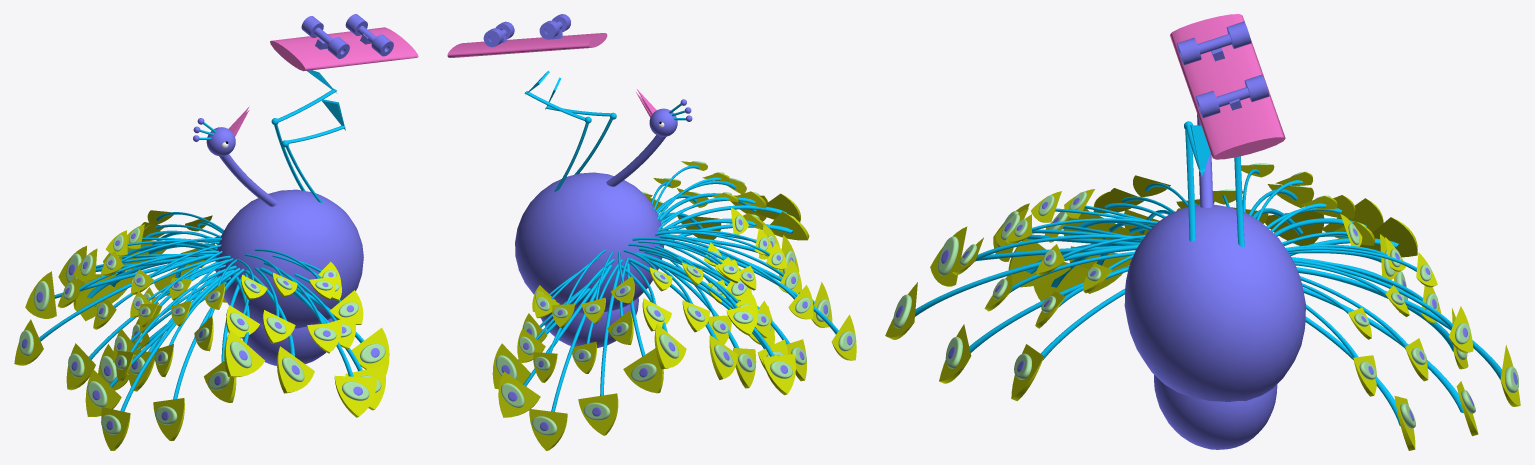
The model's file is peacock1.draco.glb.
3 views of the same model, side by side, from view 1: azimuth 30°, elevation 25°; view 2: azimuth 150°, elevation 25°; view 3: azimuth 270°, elevation 25° (orthographic). The views are drawn at different scales.
Parts seen in each view (by area): view 1: Sphere, Oil Tank (×18), Cylinder, Torus (×5), Sphere.12, Neack, Sphere.1; view 2: Sphere, Oil Tank (×18), Torus (×5), Cylinder, Sphere.12, Neack, Sphere.1; view 3: Sphere, Cylinder, Oil Tank (×8), Torus (×7), Sphere.12, Torus.1, Torus.2, Neack.
Part boxes in pixels (x1,y1,x2,y2): Sphere: (215, 189, 363, 328); Oil Tank (×18): (14, 271, 389, 450); Cylinder: (270, 27, 418, 71); Torus (×5): (39, 250, 236, 411); Sphere.12: (242, 318, 337, 365); Neack: (219, 154, 278, 206); Sphere.1: (206, 127, 235, 156); Sphere: (515, 172, 663, 313); Oil Tank (×18): (492, 193, 856, 450); Torus (×5): (551, 205, 795, 411); Cylinder: (447, 33, 607, 57); Sphere.12: (540, 298, 638, 348); Neack: (606, 135, 666, 186); Sphere.1: (649, 108, 677, 136); Sphere: (1124, 204, 1305, 401); Cylinder: (1170, 14, 1285, 159); Oil Tank (×8): (930, 198, 1417, 401); Torus (×7): (915, 234, 1501, 413); Sphere.12: (1154, 375, 1277, 449); Torus.1: (1185, 129, 1195, 241); Torus.2: (1234, 156, 1244, 247); Neack: (1197, 114, 1213, 207).
Bounding box in the file's own units: 9.45 × 8.37 × 10.7.
